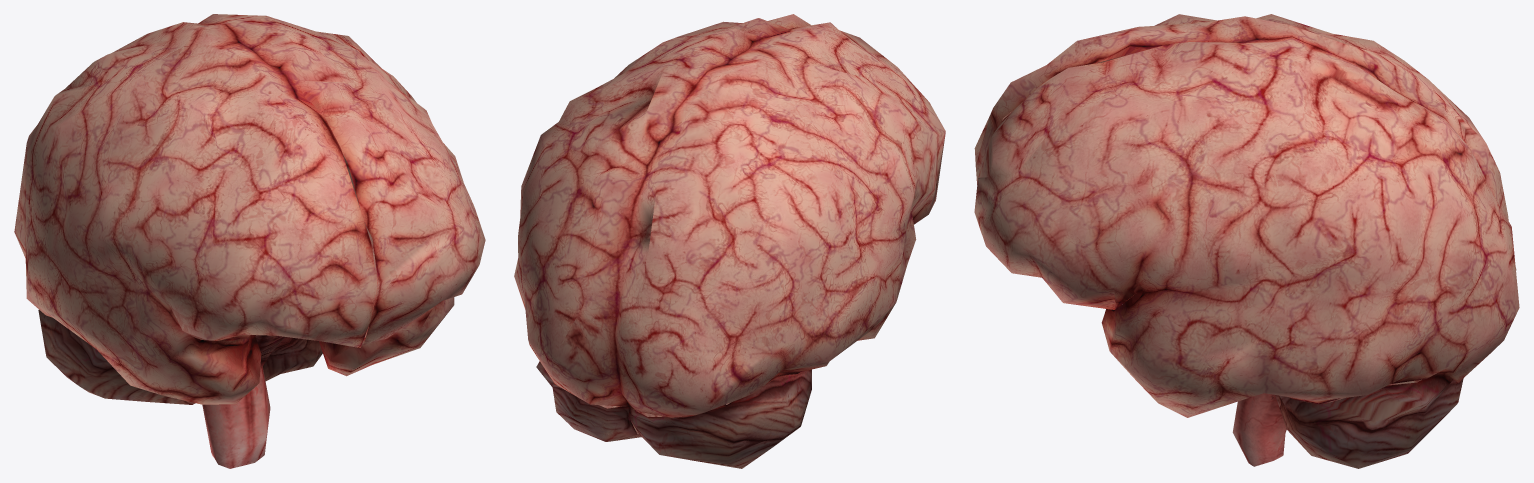
Rendered from Brain.fbx.
3 views of the same model, side by side, from view 1: azimuth 30°, elevation 25°; view 2: azimuth 150°, elevation 25°; view 3: azimuth 270°, elevation 25° (orthographic). The views are drawn at different scales.
Visible parts, largest first — view 1: Brain; view 2: Brain; view 3: Brain.
Boxes of the visible parts, bbox=[...] form: Brain: bbox=[14, 14, 485, 468]; Brain: bbox=[514, 14, 945, 468]; Brain: bbox=[974, 14, 1519, 468].
Bounding box in the file's own units: 75.83 × 85.71 × 99.03.
Materials: 1 (1 with a texture image).
